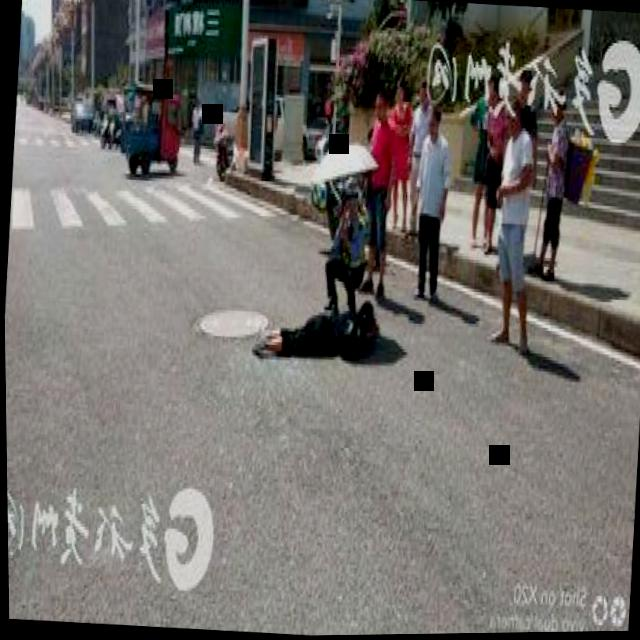Fall-Detected: (252, 279, 386, 370)
